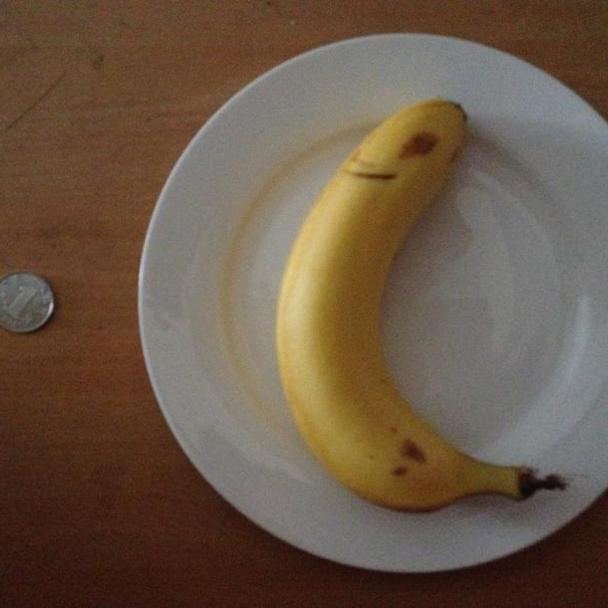banana: (276, 97, 546, 517)
